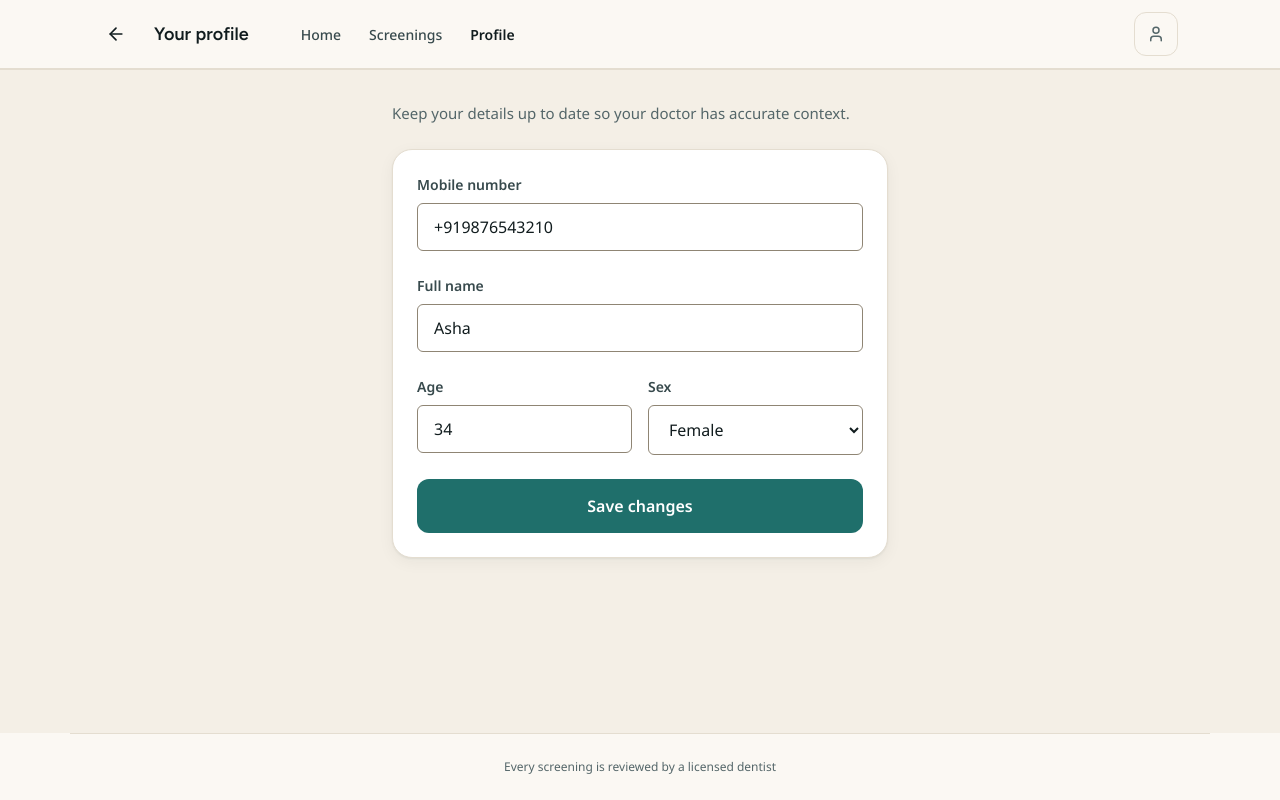
Scenario: when saving fails › shows an inline alert and an error toast
Expected: the field labelled "Full name" is shown, [417,304,863,352]
Click the button "Save changes": click(640, 506) [417,478,863,532]
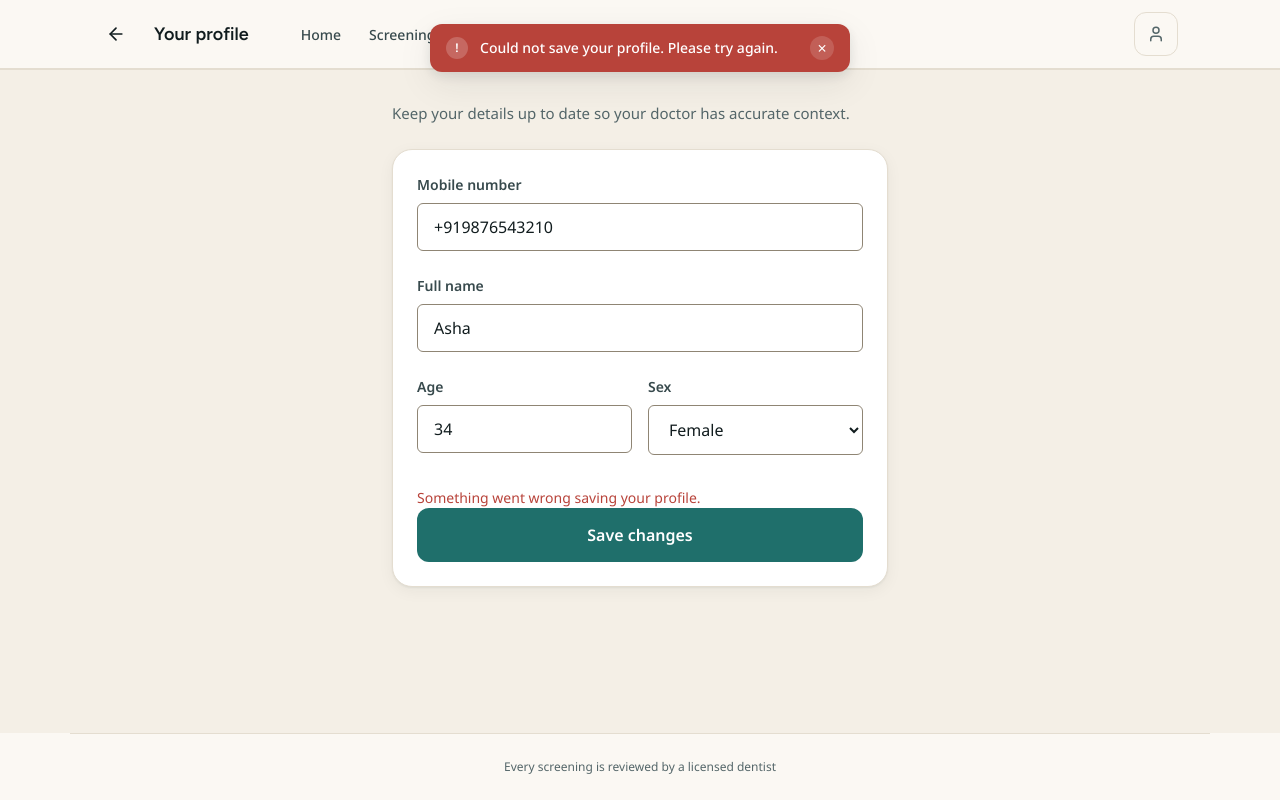
Now the message "Something went wrong saving your profile." is shown, box [417,488,701,506]
Now the text "Could not save your profile. Please try again." is shown, box [480,38,798,58]
